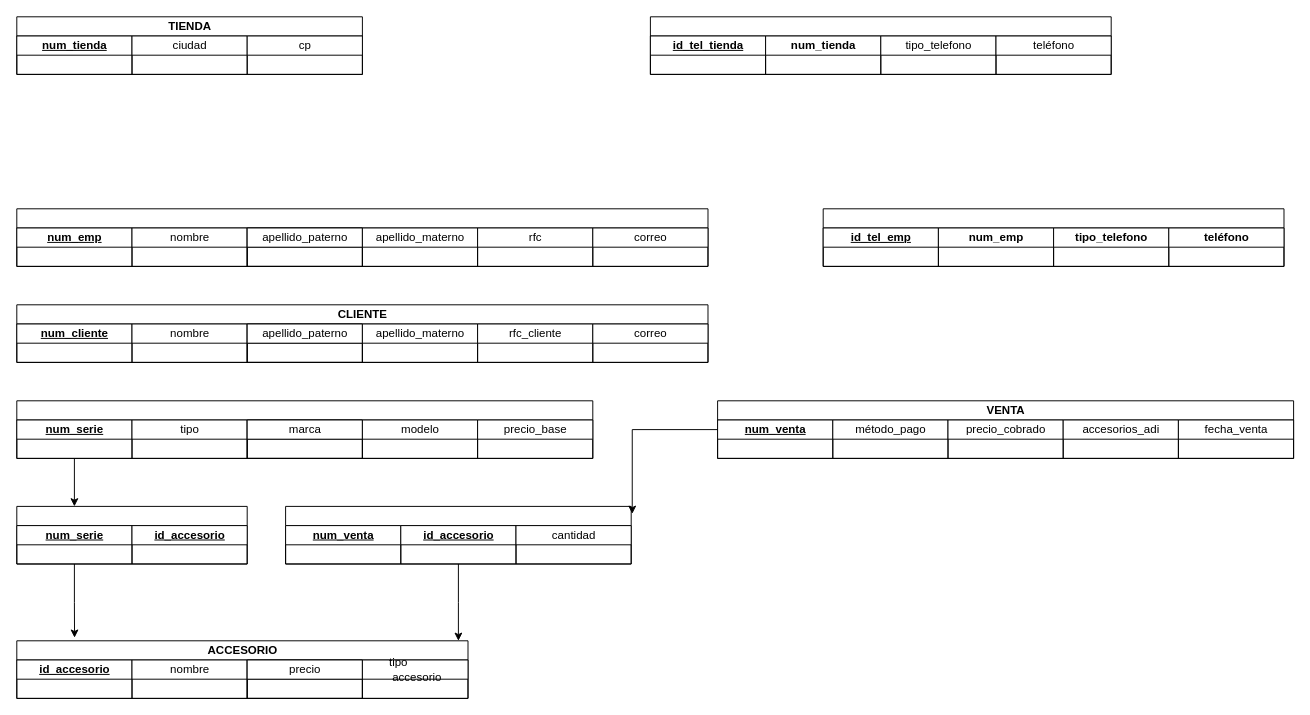
Some shapes in this 1310 by 715 pixel diagram are drawn without their labels. Here are the shapes that lost their labels. From the top down, the box of each, then its label:
(649, 16, 1111, 74): TELEFONO_TIENDA
(16, 208, 708, 266): EMPLEADO
(822, 208, 1284, 266): TELEFONO_EMPLEADO
(16, 400, 593, 458): BICICLETA
(16, 505, 247, 564): ACCESORIO_INCLUIDO
(285, 505, 631, 564): ACCESORIO_VENTA
